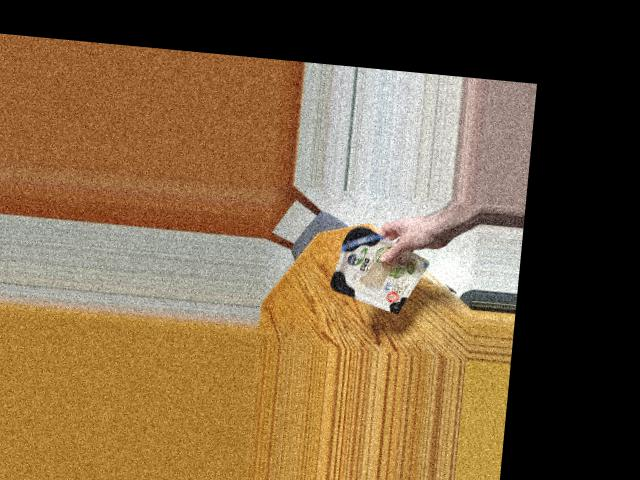cheese: (326, 221, 417, 313)
